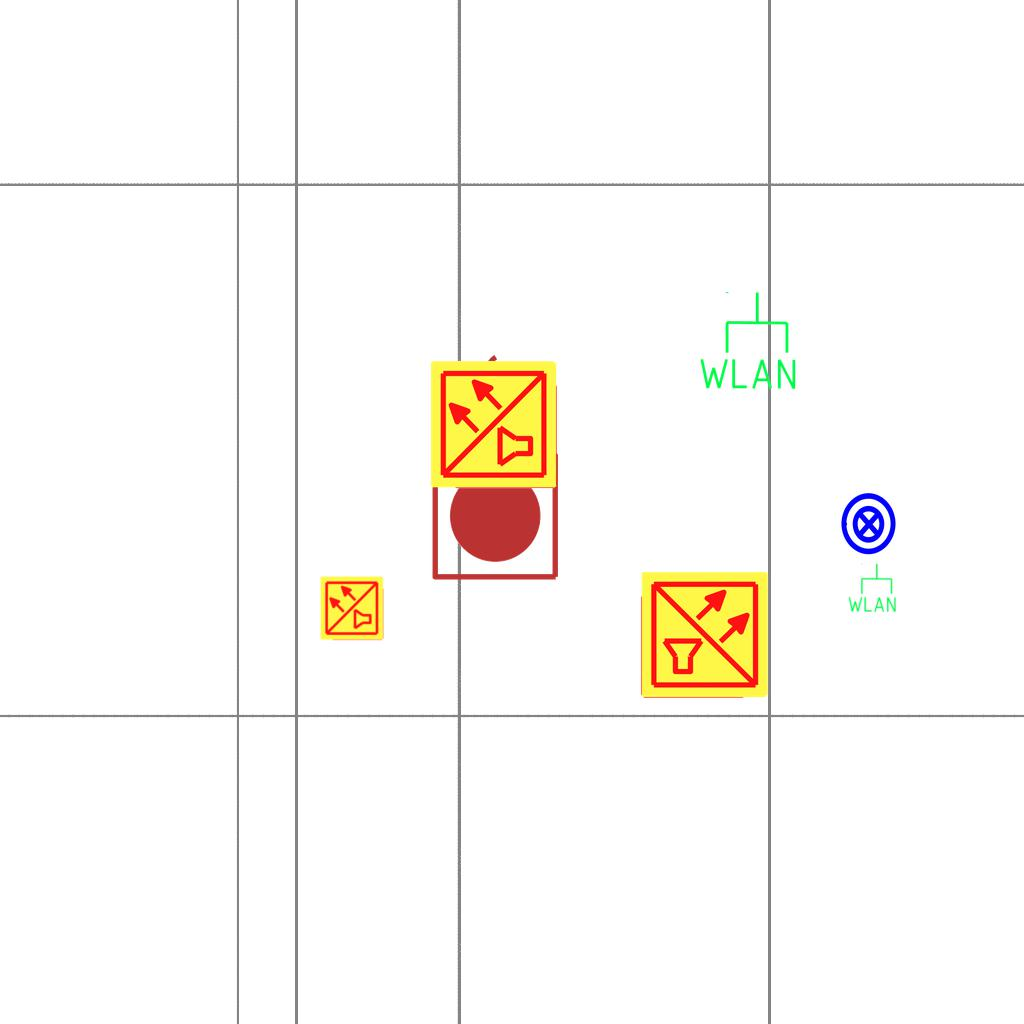OKW_Multisensormelder_(Kombination_optischer_Rauch-Kahlenmonoxid_Waerme-Melder): (639, 569, 771, 701), (428, 358, 560, 490), (319, 575, 385, 641)
Taster_beleuchtet: (836, 491, 902, 557)
WLAN: (695, 289, 800, 393), (846, 562, 898, 614)
Zugtaster: (425, 344, 569, 588)
